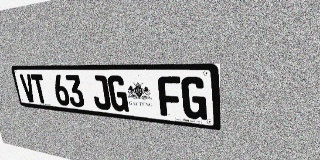3: (65, 75, 85, 108)
6: (51, 74, 71, 106)
F: (157, 76, 182, 118)
G: (181, 76, 207, 120), (107, 75, 129, 112)
J: (90, 75, 111, 110)
T: (30, 74, 48, 104)
V: (19, 74, 37, 103)
